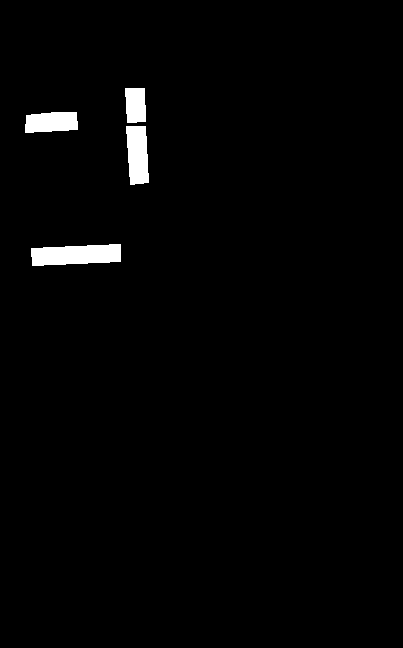parkingspot: (31, 244, 120, 265), (126, 126, 148, 184), (25, 112, 77, 132), (125, 88, 145, 122)
